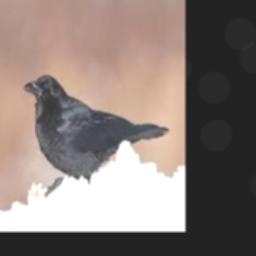Crow: (23, 75, 169, 201)
